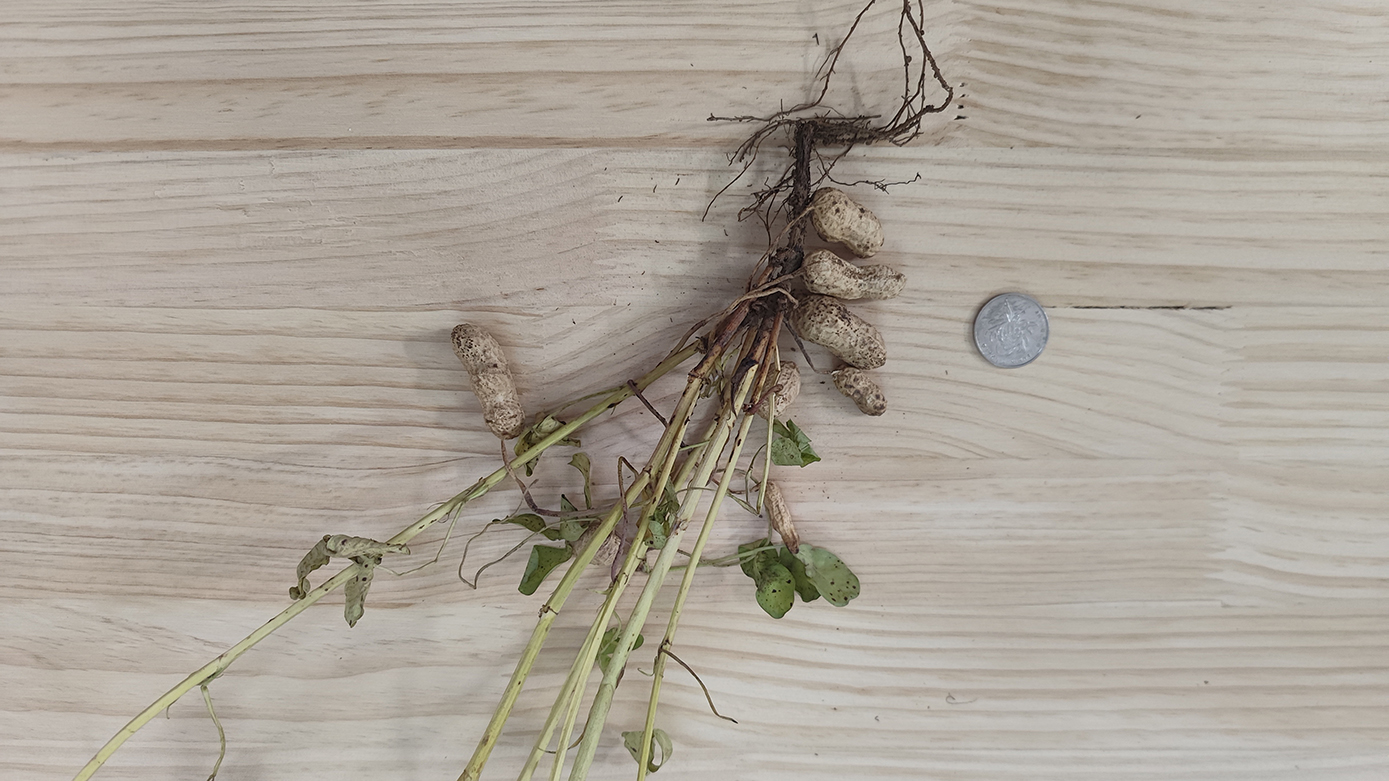h: (450, 322, 525, 438), (787, 294, 892, 367), (809, 185, 884, 256), (799, 252, 906, 299), (830, 367, 887, 417), (760, 362, 802, 417)
